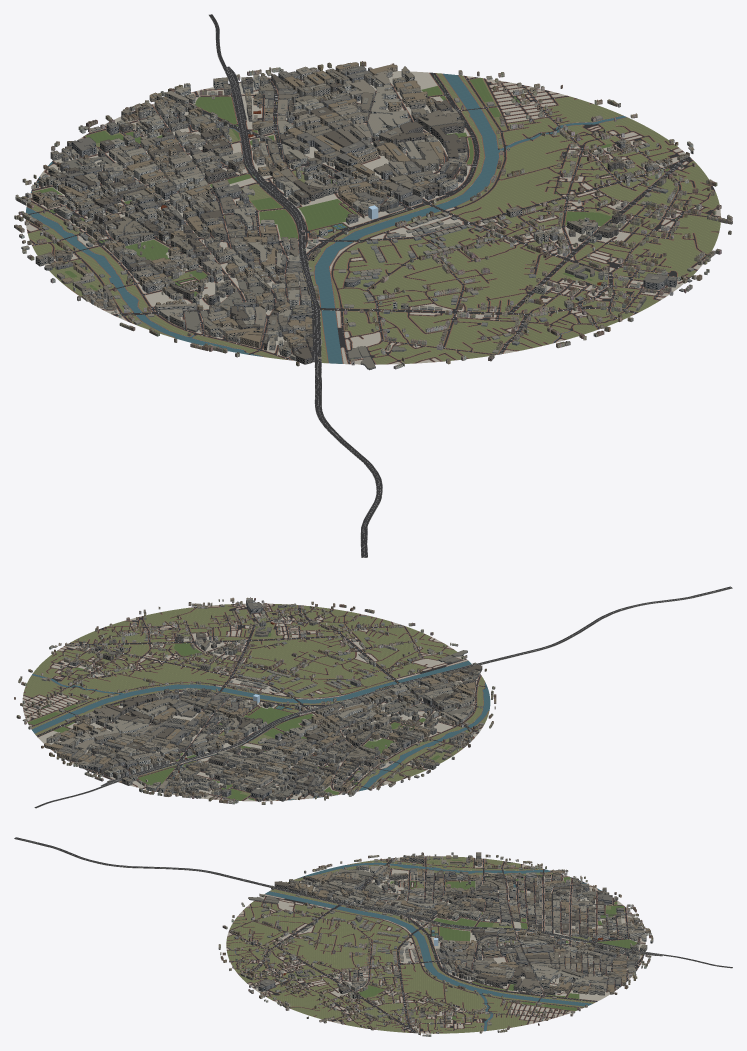
File: map_core.glb
3 views of the same model, one above another, from view 1: azimuth 30°, elevation 25°; view 2: azimuth 150°, elevation 25°; view 3: azimuth 270°, elevation 25° (orthographic). The views are drawn at different scales.
Parts seen in each view (by area): view 1: 建築_大樓, 空地草地, 建築_女兒牆, 人行道, 道路_柏油, 建築_透天, 街廓地面, 河川水面, 建築_廠房, 公園綠地, 建築_屋突, 高架道路_精緻區; view 2: 建築_大樓, 空地草地, 建築_女兒牆, 人行道, 道路_柏油, 建築_透天, 街廓地面, 河川水面, 建築_廠房, 建築_屋突, 公園綠地, 高架道路_精緻區; view 3: 建築_大樓, 空地草地, 人行道, 道路_柏油, 建築_女兒牆, 建築_透天, 街廓地面, 河川水面, 公園綠地, 建築_屋突, 建築_廠房, 高架道路_精緻區.
Boxes of the visible parts, <box> form: 建築_大樓: <box>32,62,676,364</box>; 空地草地: <box>26,73,720,364</box>; 建築_女兒牆: <box>14,62,732,368</box>; 人行道: <box>26,72,720,364</box>; 道路_柏油: <box>25,72,720,364</box>; 建築_透天: <box>14,61,732,369</box>; 街廓地面: <box>26,71,720,364</box>; 河川水面: <box>26,73,626,363</box>; 建築_廠房: <box>21,76,694,370</box>; 公園綠地: <box>32,78,669,296</box>; 建築_屋突: <box>41,64,673,358</box>; 高架道路_精緻區: <box>209,14,382,557</box>; 建築_大樓: <box>44,600,482,801</box>; 空地草地: <box>23,604,489,800</box>; 建築_女兒牆: <box>17,597,496,803</box>; 人行道: <box>22,603,489,801</box>; 道路_柏油: <box>23,603,487,801</box>; 建築_透天: <box>14,597,496,804</box>; 街廓地面: <box>22,603,481,801</box>; 河川水面: <box>31,615,490,800</box>; 建築_廠房: <box>22,600,484,803</box>; 建築_屋突: <box>61,600,476,796</box>; 公園綠地: <box>28,626,449,800</box>; 高架道路_精緻區: <box>34,586,732,808</box>; 建築_大樓: <box>240,852,653,1023</box>; 空地草地: <box>226,856,624,1033</box>; 人行道: <box>226,856,645,1033</box>; 道路_柏油: <box>226,856,645,1033</box>; 建築_女兒牆: <box>218,852,653,1035</box>; 建築_透天: <box>218,852,652,1036</box>; 街廓地面: <box>226,857,645,1033</box>; 河川水面: <box>227,862,614,1031</box>; 公園綠地: <box>294,860,636,1024</box>; 建築_屋突: <box>252,853,651,1019</box>; 建築_廠房: <box>230,856,632,1036</box>; 高架道路_精緻區: <box>14,837,732,968</box>.
Bounding box in the file's own units: 3350 × 49.35 × 5142.
13 materials, 10 textured.
